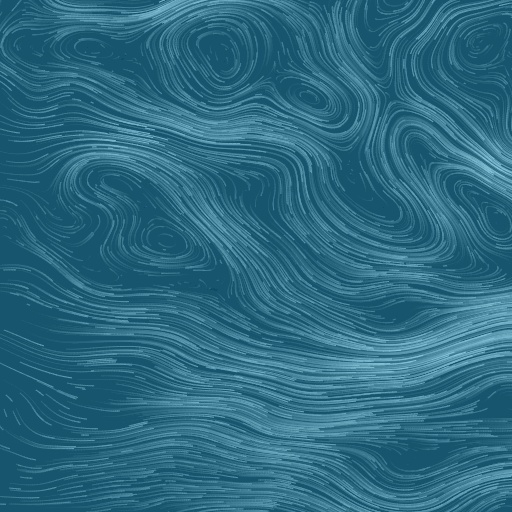eddy: (81, 158, 199, 267), (182, 16, 256, 95), (448, 16, 510, 74), (284, 76, 334, 115), (477, 200, 511, 242), (73, 33, 107, 64)
